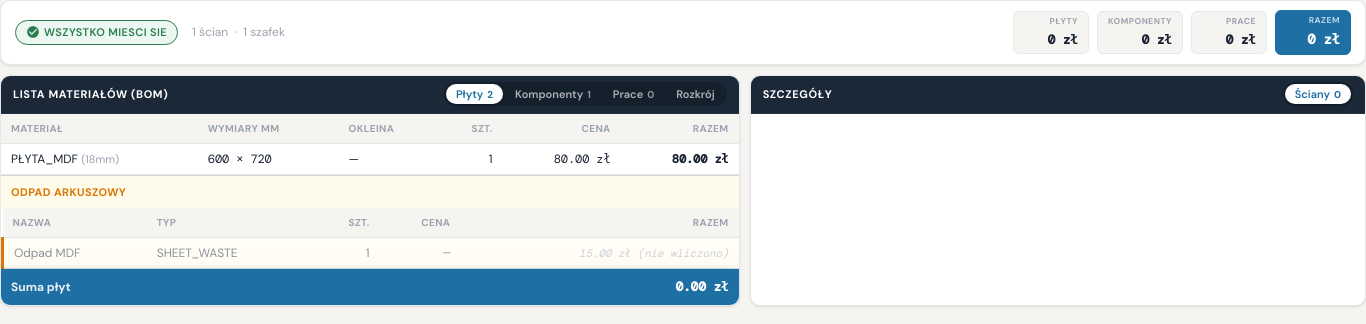
Test: KitchenCostsSectionComponent › renders sheet waste under boards and keeps it out of components
Expected: the button "Płyty 2" is shown, [446,84,503,104]
Expected: the element with class "waste-section" shows "Odpad MDF", [14,245,80,261]
What coordinates should you click on to do the following:
click the button "Komponenty 1"
I would click on:
 (553, 94)
Its box is [505,84,601,104].
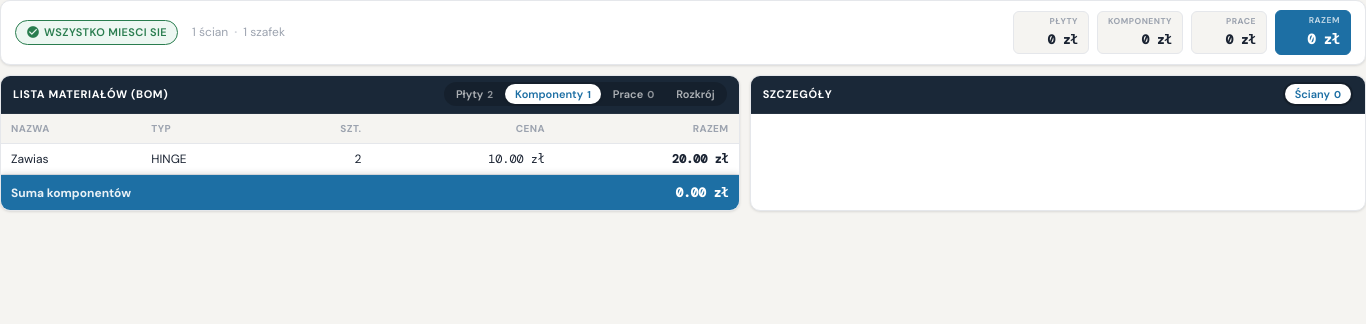
Now the element with class "bom-scroll-area" shows "Zawias", box [11,151,48,167]
Now the cell with class "bom-scroll-area" no longer shows "Odpad MDF"
